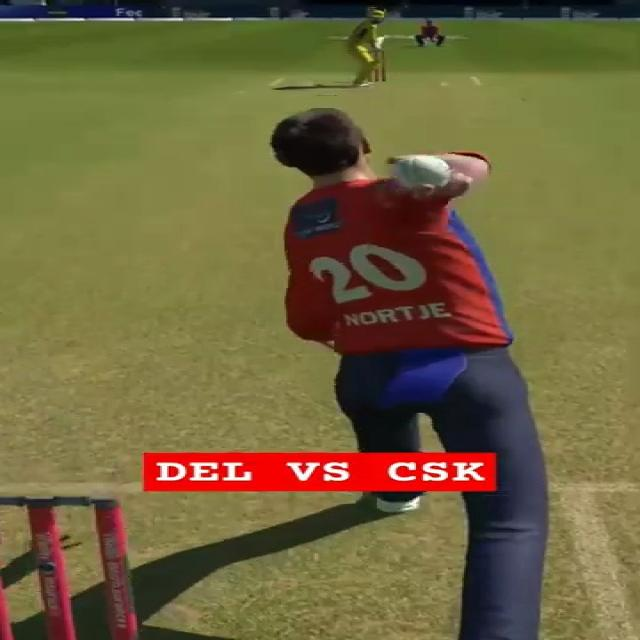ball: (393, 154, 450, 187)
